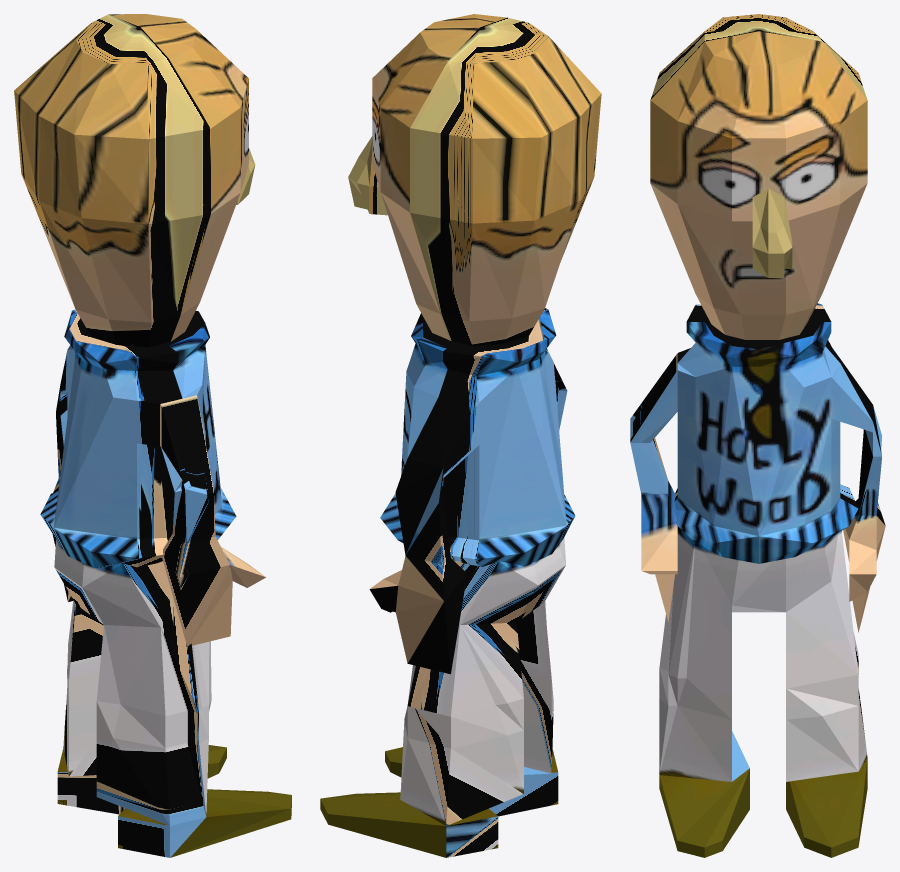
File: Piposh.glb
3 renders of one model, left to right at view 1: azimuth 30°, elevation 25°; view 2: azimuth 150°, elevation 25°; view 3: azimuth 270°, elevation 25°, orthographic. The views are drawn at different scales.
Visible parts, largest first — view 1: Piposh; view 2: Piposh; view 3: Piposh.
Boxes of the visible parts, x1,y1,x2,y2 form: Piposh: (14,14,291,857); Piposh: (320,14,601,857); Piposh: (630,14,885,857).
Size of the model in its own units: 34.11 by 116 by 34.43.
1 material, 1 textured.
